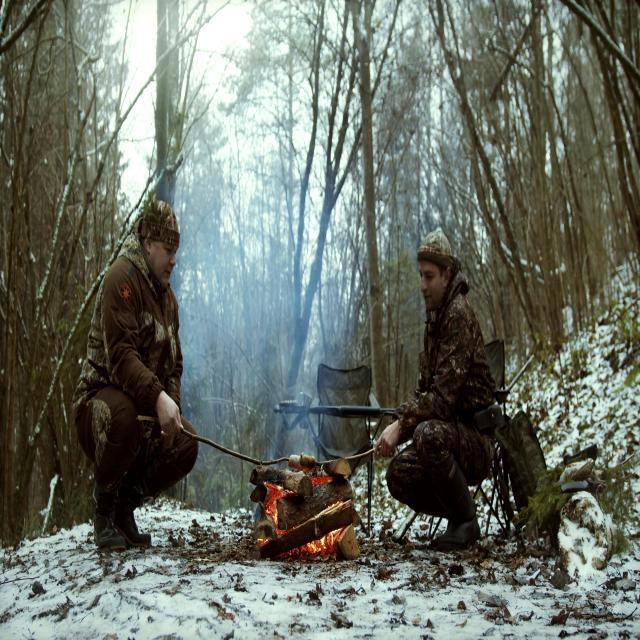Smoke: (165, 120, 331, 454)
